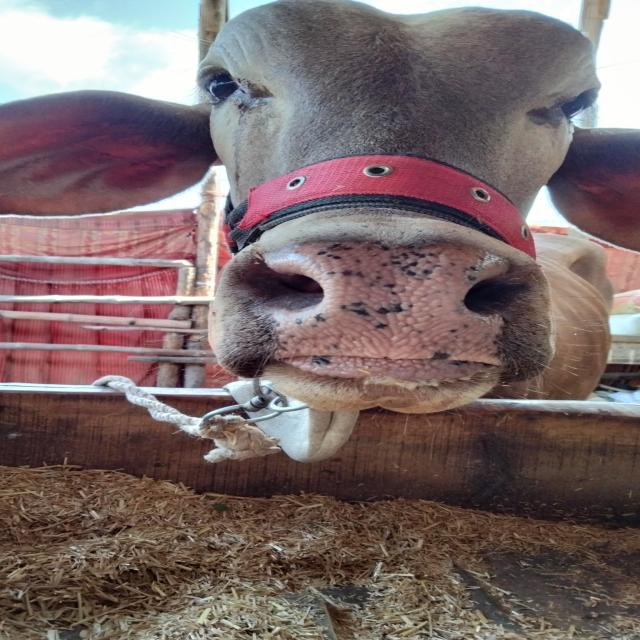muzzles: (244, 230, 531, 377)
